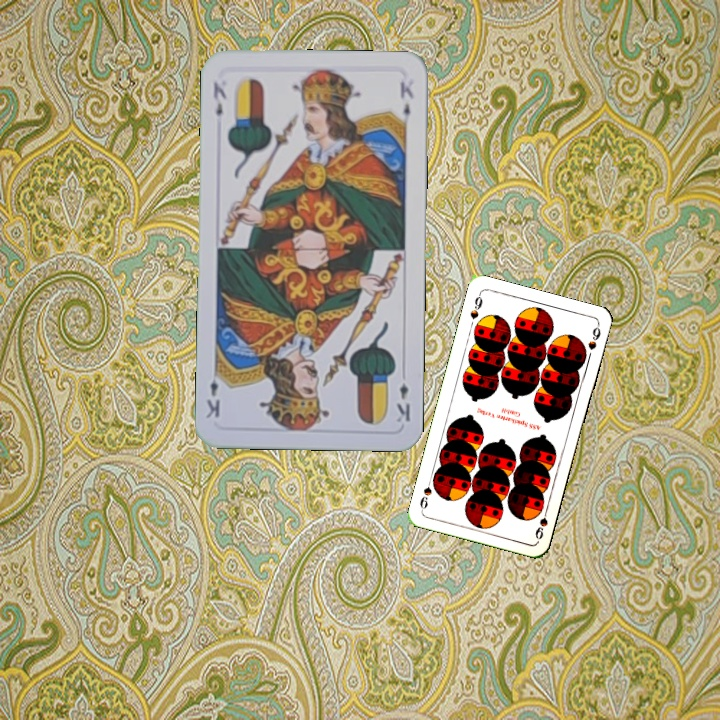EK: (393, 379, 413, 425), (209, 78, 229, 119)
S9: (531, 502, 551, 542), (466, 289, 485, 322)
